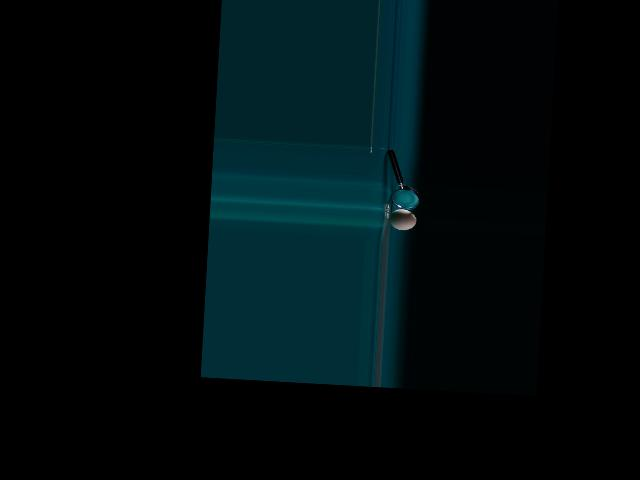egg: (389, 208, 417, 231)
